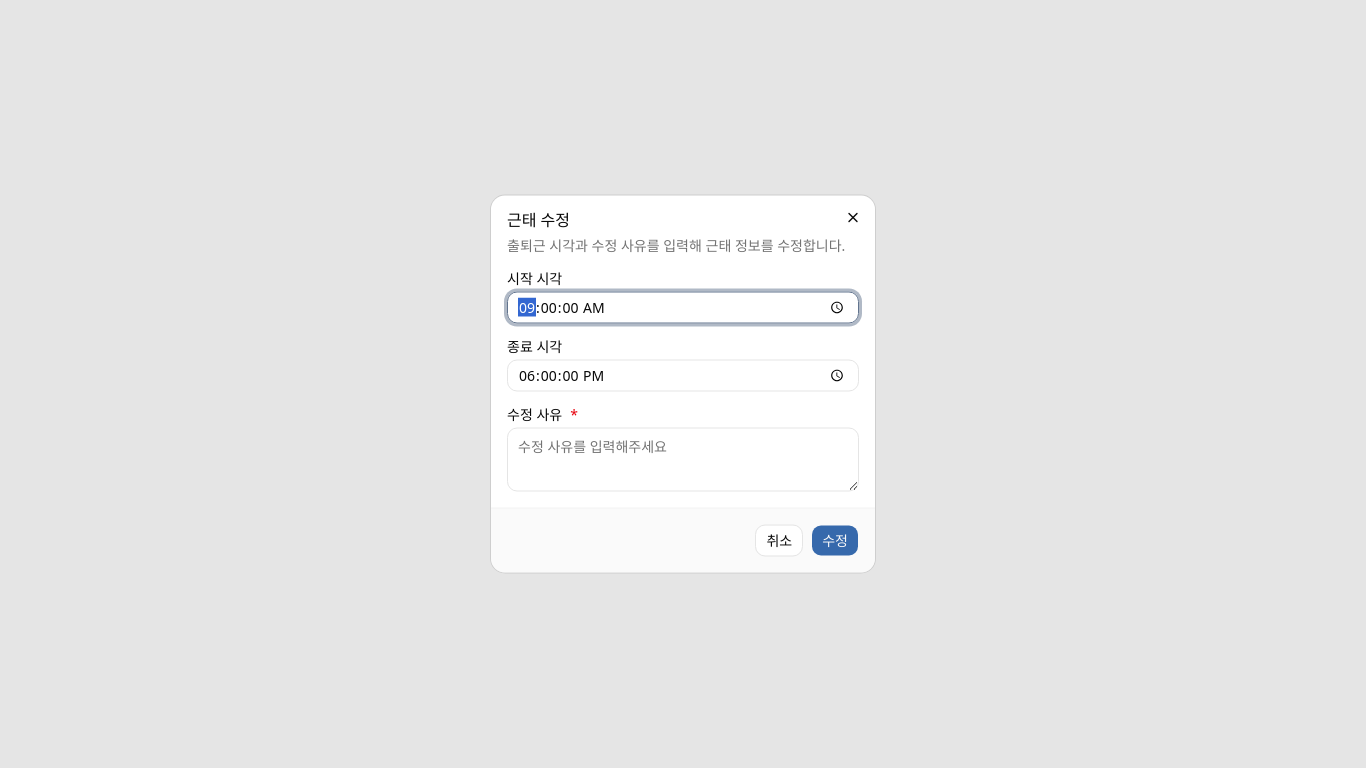
UpdateAttendanceDialog › startAt/endAt을 둘 다 비우고 제출하면 zod object-level refine 에러가 노출된다
Clear the time field labelled "시작 시각": (683, 308) [507, 292, 859, 324]
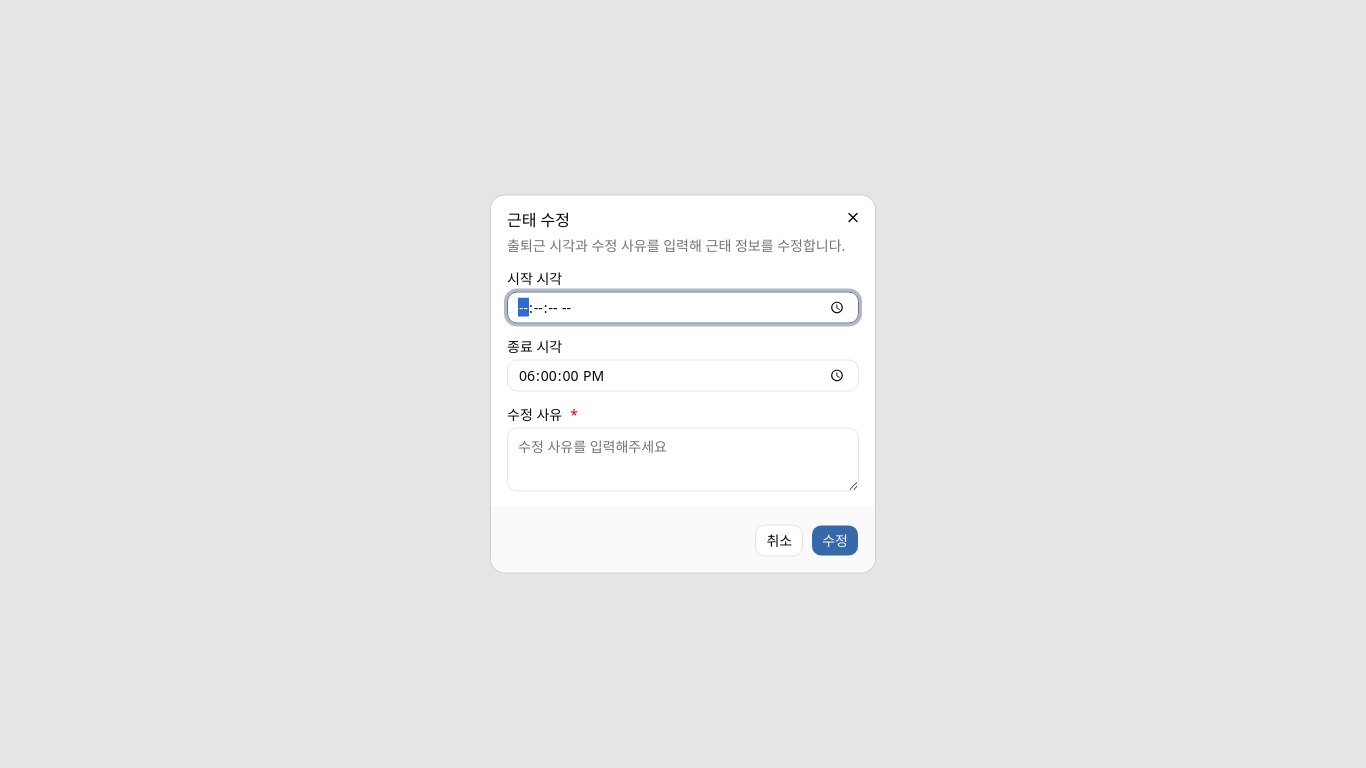
Clear the time field labelled "종료 시각": (683, 376) [507, 360, 859, 392]
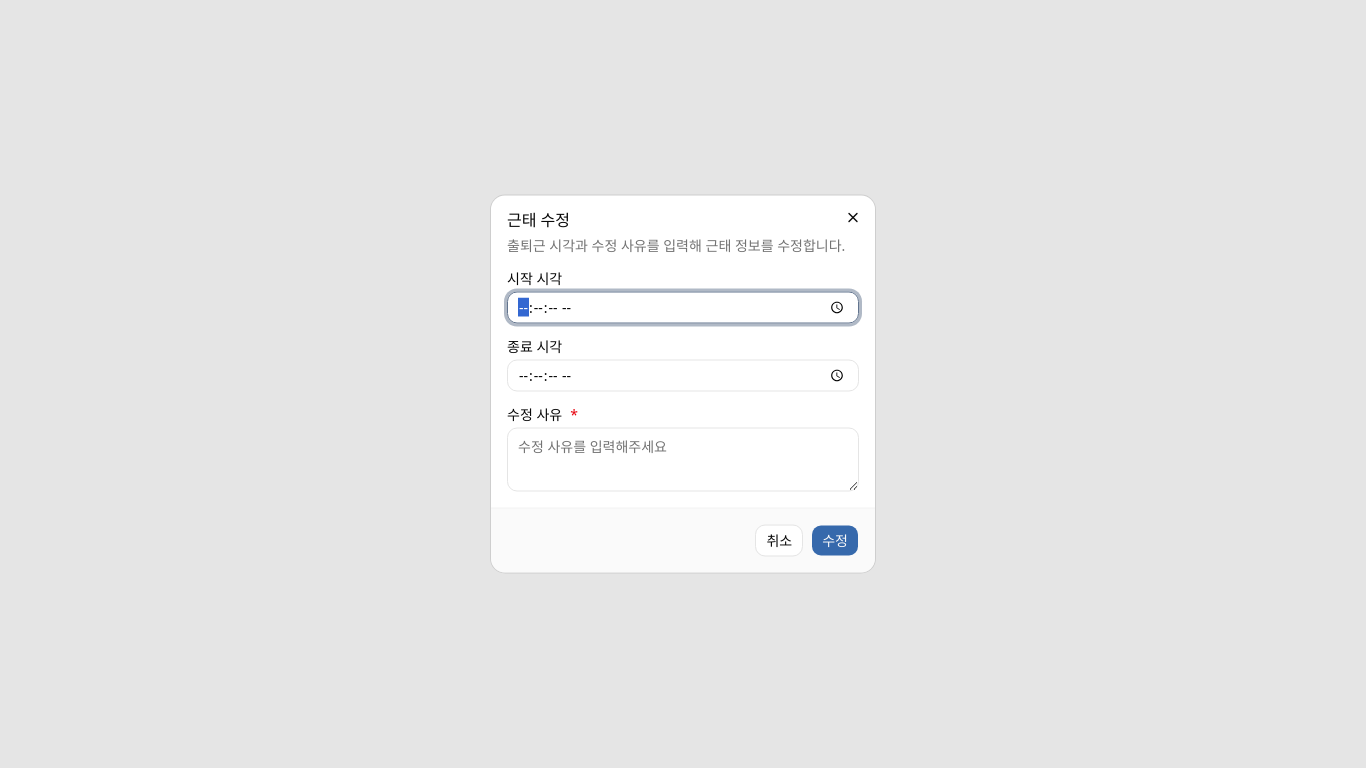
In the text box labelled "수정 사유 *": (683, 460) [507, 428, 859, 492], type "사유입니다"
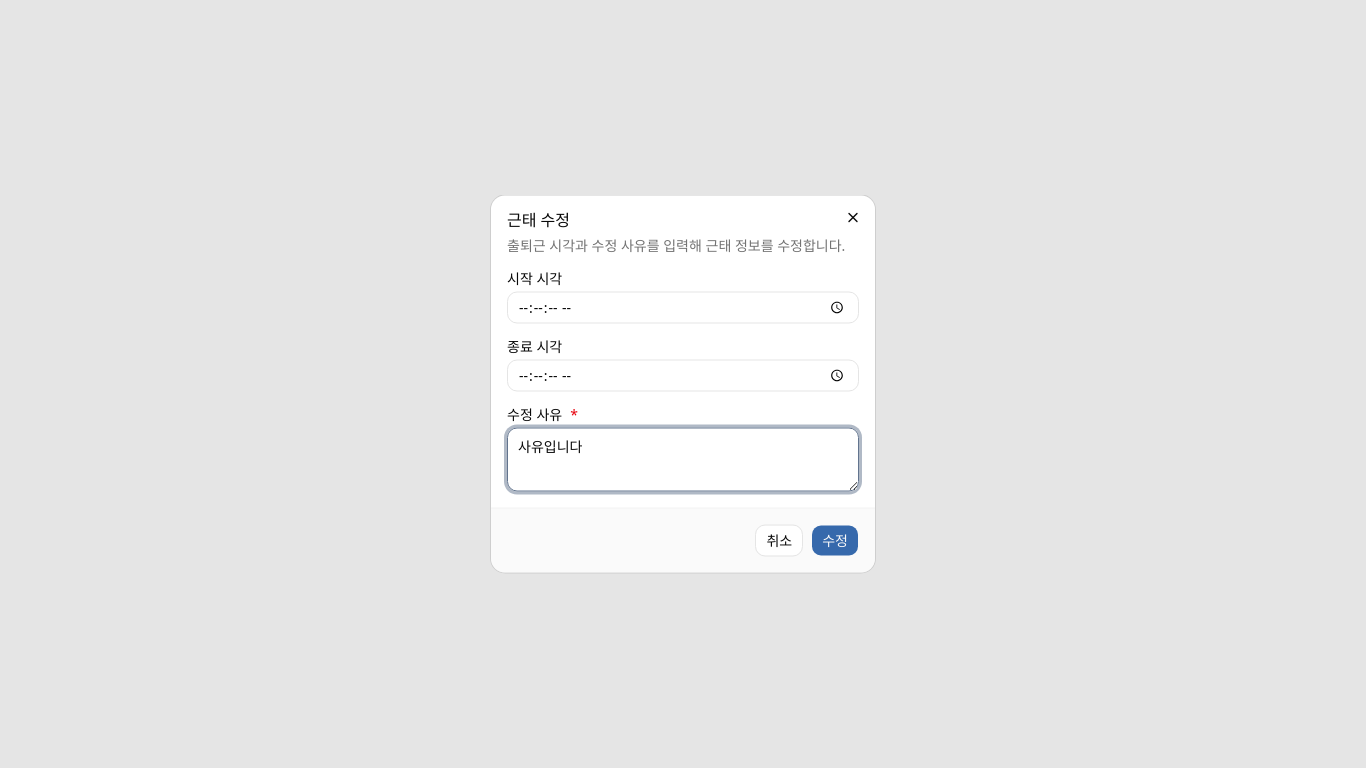
Click the button "수정": (835, 540) [811, 524, 859, 556]
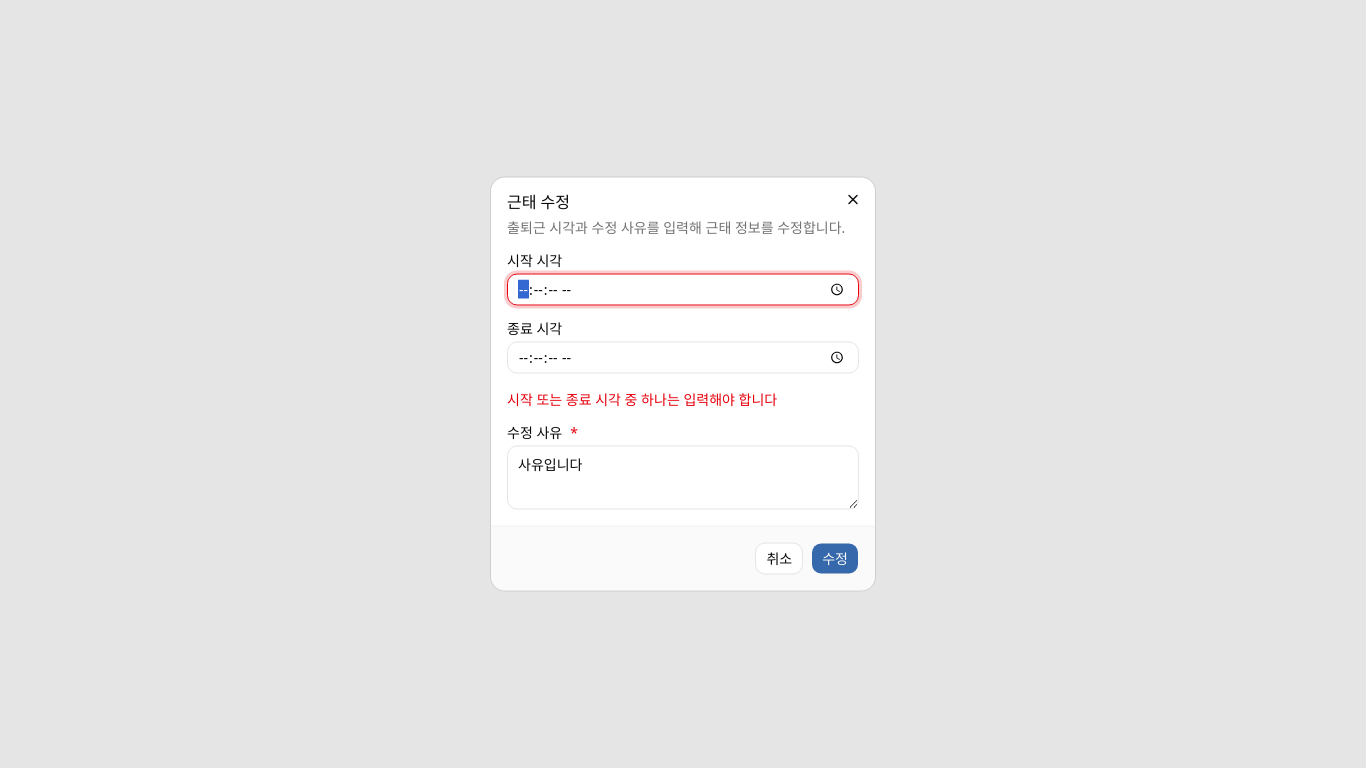
Expected: the text "시작 또는 종료 시각 중 하나는 입력해야 합니다" is shown, [507, 390, 777, 408]
